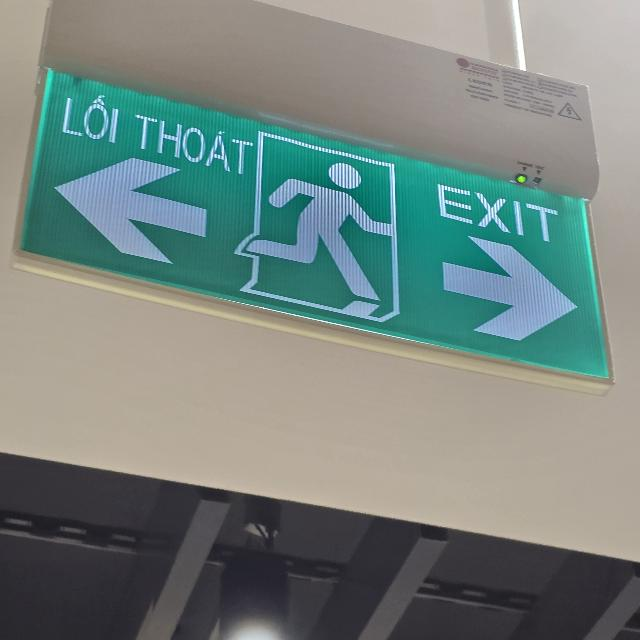exit: (16, 65, 598, 382)
